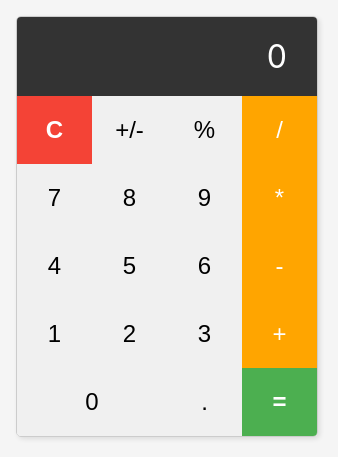
Test case: Calculator Component › performs addition correctly
What coordinates should you click on to do the following:
click the button "2"
I would click on:
 (130, 334)
Its box is [92,300,167,368].
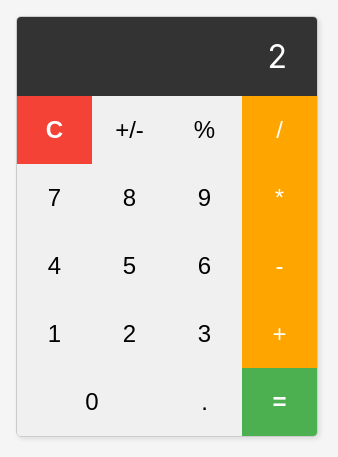
What coordinates should you click on to do the following:
click the button "+"
I would click on:
 (280, 334)
Its box is [242,300,317,368].
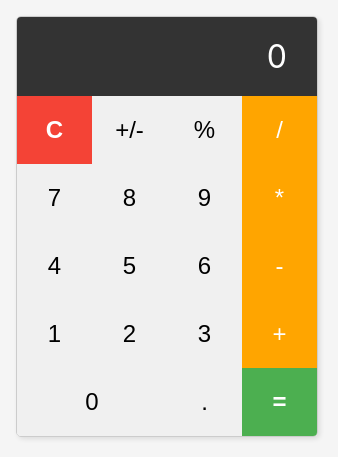
What coordinates should you click on to do the following:
click the button "3"
I would click on:
 (204, 334)
Its box is [167,300,242,368].
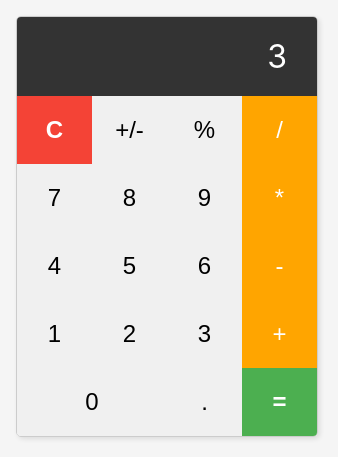
What coordinates should you click on to do the following:
click the button "="
I would click on:
 (280, 402)
Its box is [242,368,317,436].
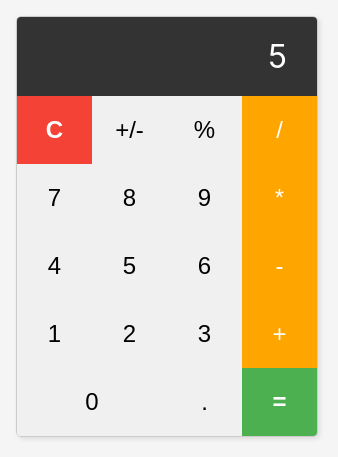
Result: the field reads "5" at [268,36,287,76]
